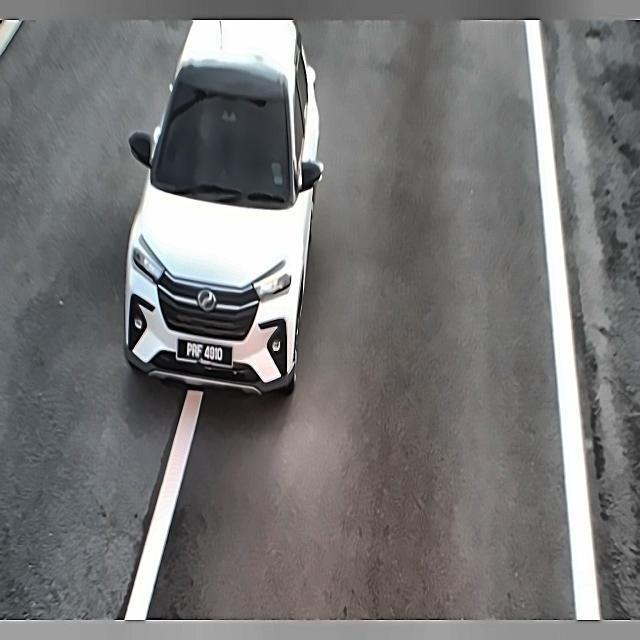car: (174, 329, 227, 374)
